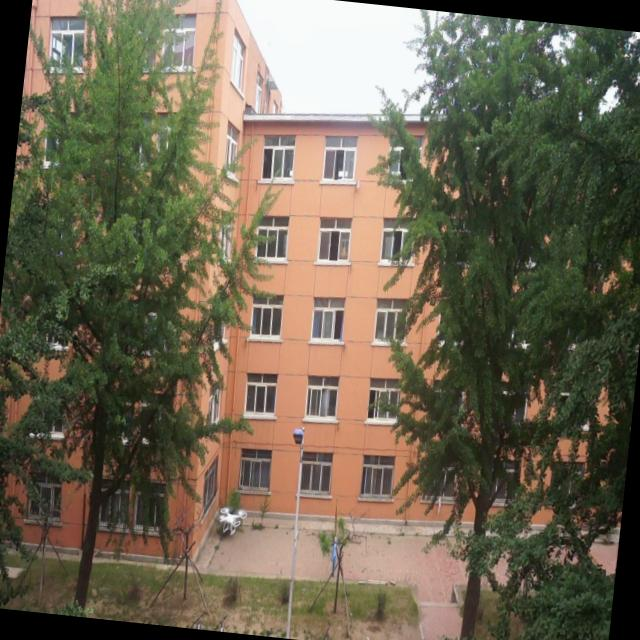drone: (214, 500, 248, 536)
